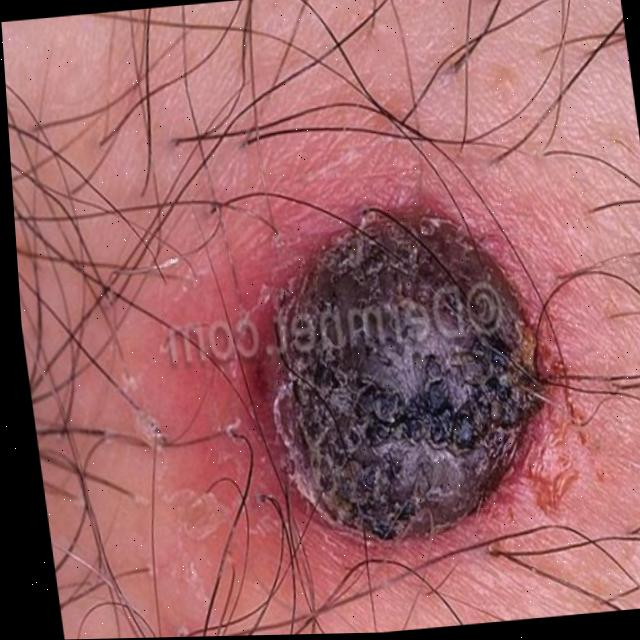Eczema: (246, 235, 559, 514)
